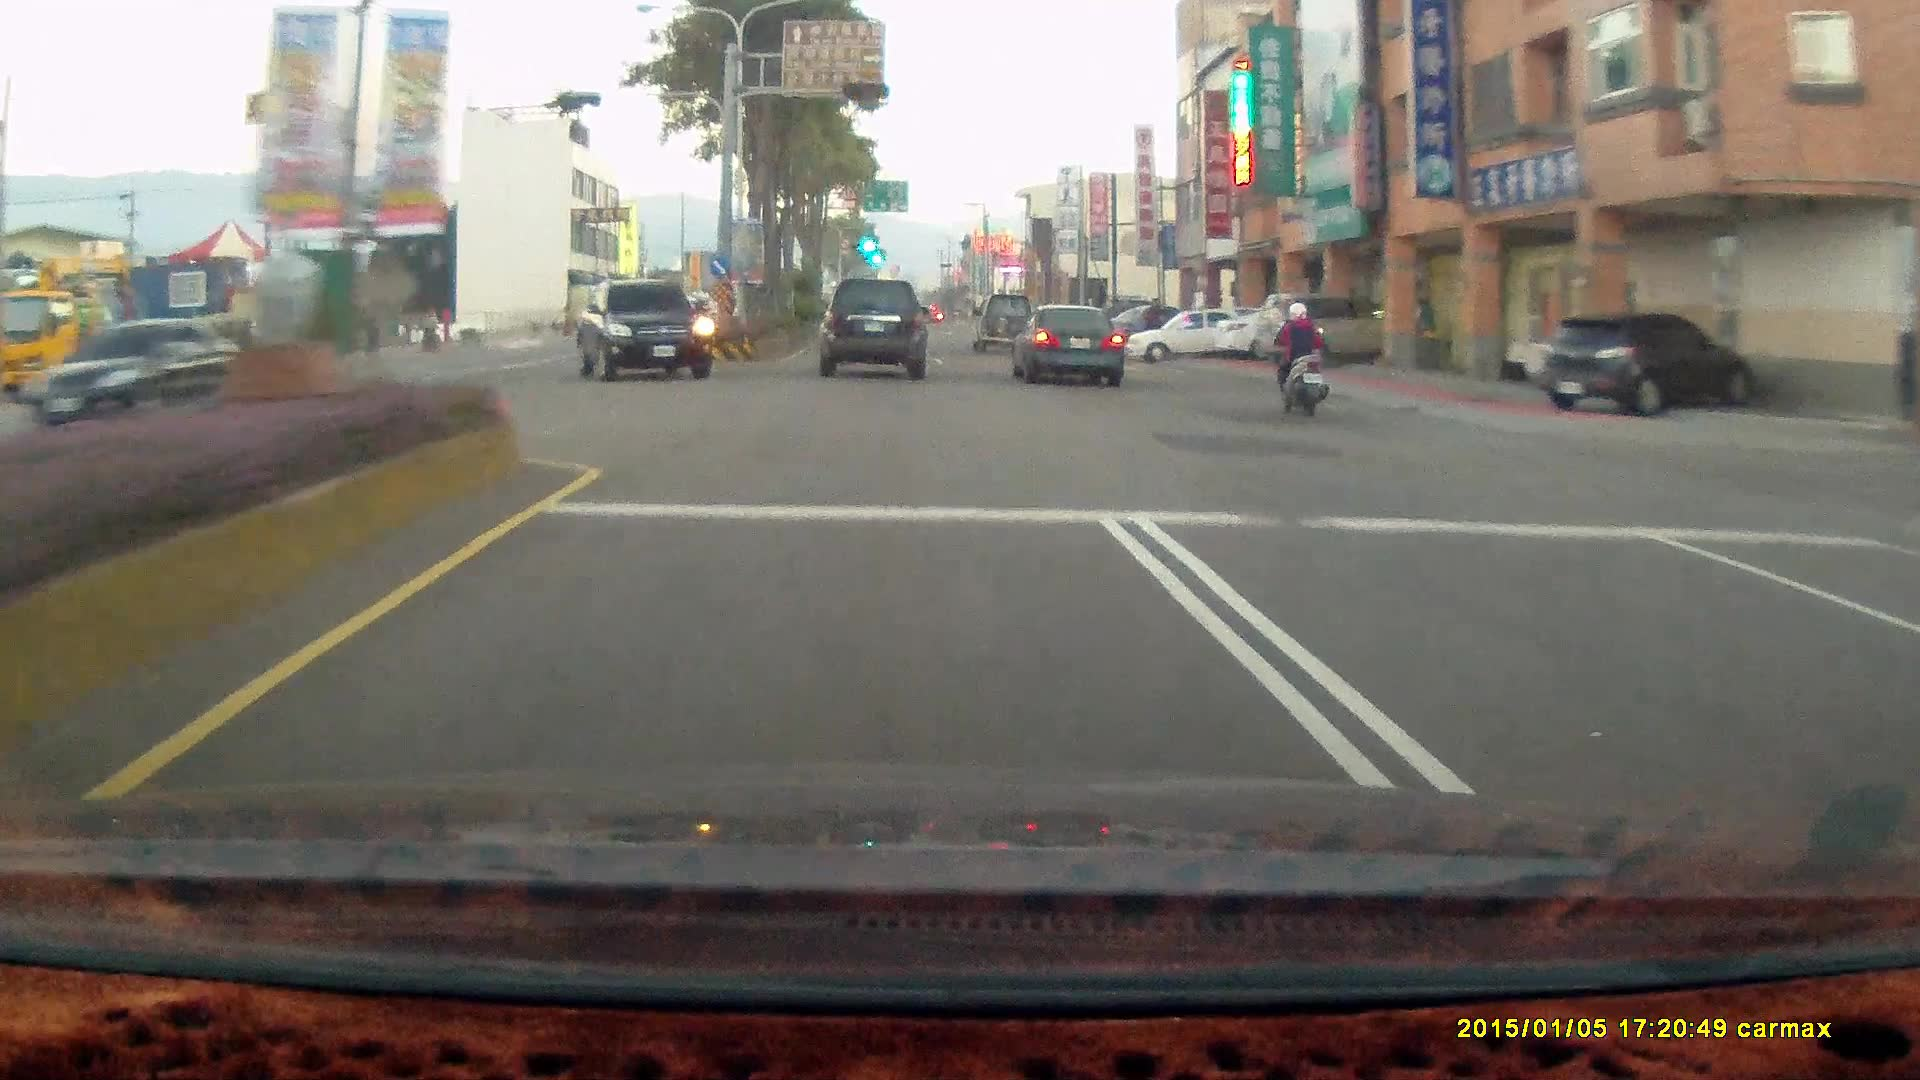pedestrian: (1413, 292, 1437, 361)
rider: (1262, 294, 1340, 423), (1270, 299, 1331, 414)
vehicle: (31, 315, 245, 431), (1542, 313, 1756, 419), (1540, 314, 1756, 414), (1, 283, 194, 396), (581, 278, 717, 381), (575, 279, 710, 381), (1251, 292, 1416, 366), (817, 280, 926, 381), (823, 278, 932, 379), (1250, 292, 1392, 366), (1009, 302, 1131, 385), (1007, 302, 1122, 386), (1136, 303, 1265, 366), (1125, 306, 1259, 362), (970, 290, 1038, 350), (1109, 302, 1197, 345)
